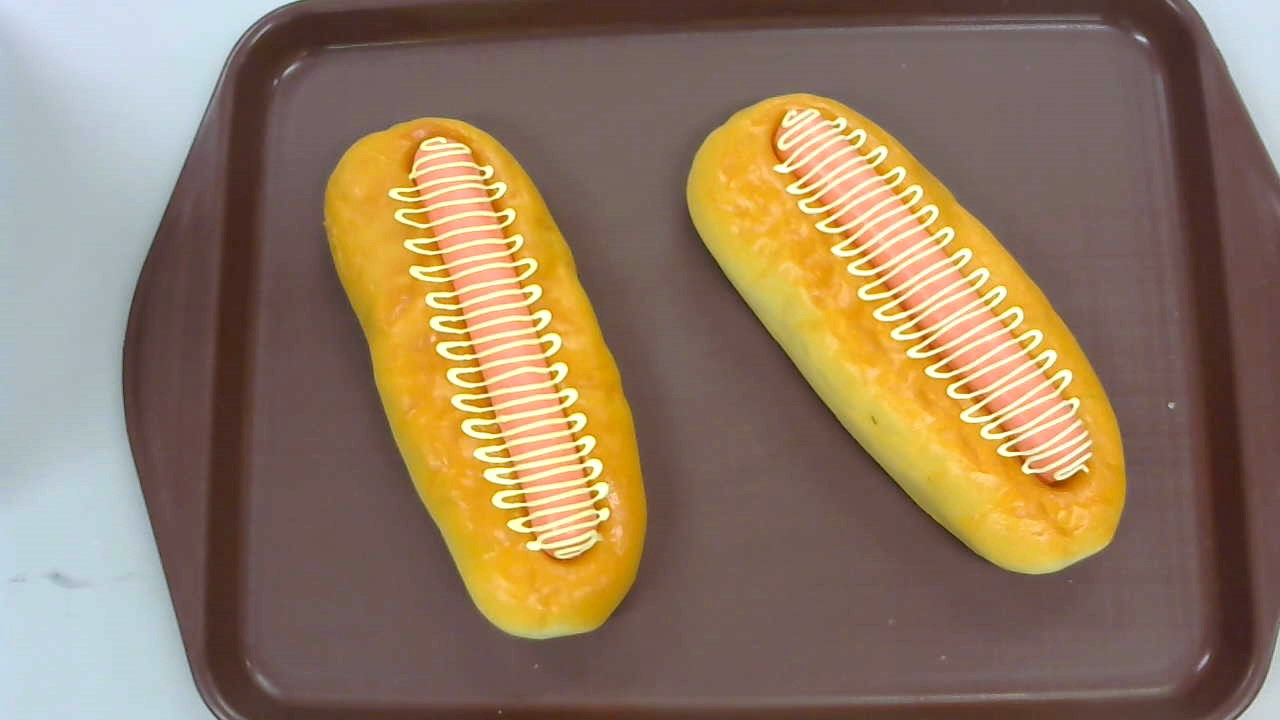hot dog: (686, 91, 1126, 575), (322, 116, 648, 642)
